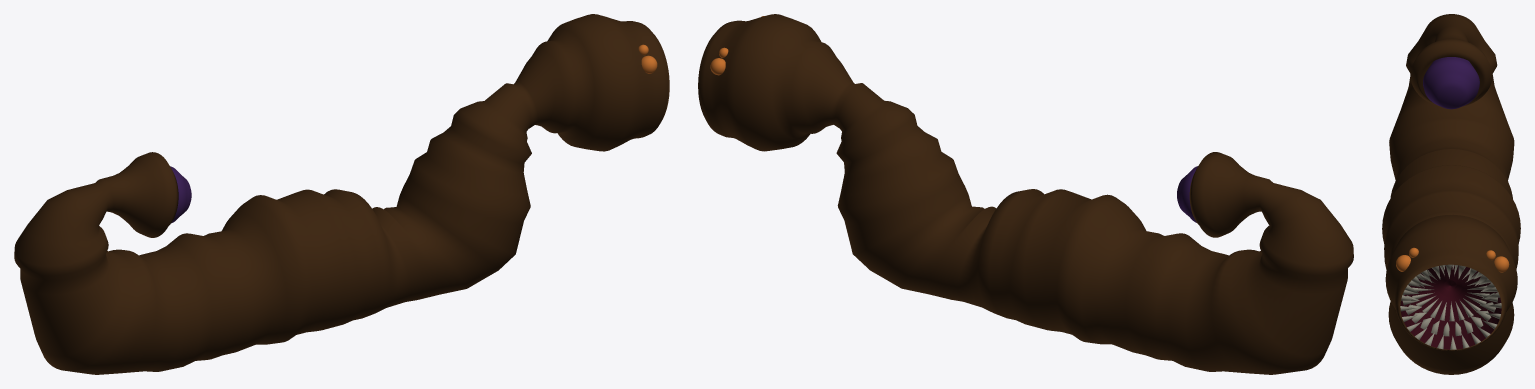
Rendered from BigMonsterTM.fbx.
3 renders of one model, left to right at view 1: azimuth 30°, elevation 25°; view 2: azimuth 150°, elevation 25°; view 3: azimuth 270°, elevation 25°, orthographic. The views are drawn at different scales.
Visible parts, largest first — view 1: Body, Egg; view 2: Body, Egg; view 3: Body, Throat, Teeths, Egg, Eyes.
Boxes of the visible parts, left/top/right/bottom form: Body: left=14, top=14, right=669, bottom=374; Egg: left=170, top=166, right=191, bottom=223; Body: left=698, top=14, right=1353, bottom=374; Egg: left=1177, top=166, right=1197, bottom=222; Body: left=1382, top=14, right=1520, bottom=374; Throat: left=1400, top=265, right=1501, bottom=349; Teeths: left=1400, top=264, right=1501, bottom=349; Egg: left=1423, top=57, right=1479, bottom=109; Eyes: left=1396, top=247, right=1509, bottom=272.
Bounding box in the file's own units: 5558 × 2007 × 1110.
